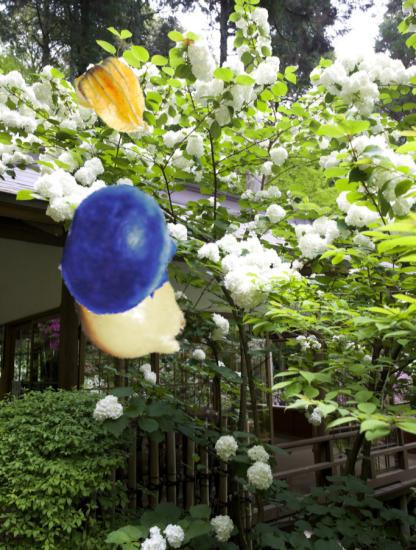Huckleberry: (53, 185, 186, 318)
Physalis: (74, 59, 160, 145)
Quince: (72, 254, 192, 374)
